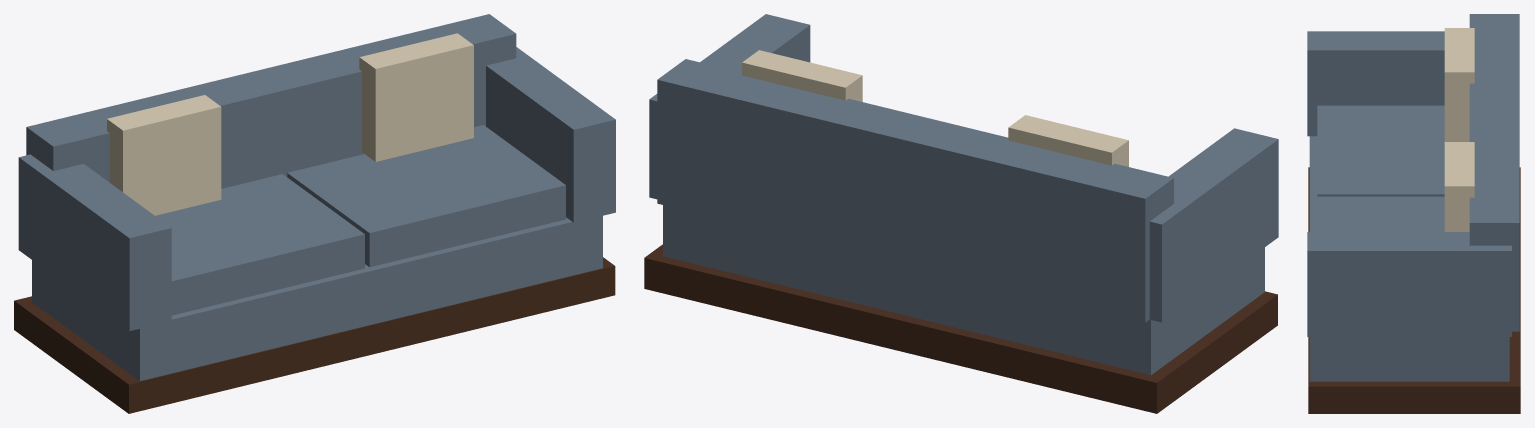
File: loveseat.glb
3 renders of one model, left to right at view 1: azimuth 30°, elevation 25°; view 2: azimuth 150°, elevation 25°; view 3: azimuth 270°, elevation 25°, orthographic. The views are drawn at different scales.
Parts seen in each view (by area): view 1: loveseat; view 2: loveseat; view 3: loveseat.
Boxes of the visible parts, x1,y1,x2,y2 form: loveseat: [14, 14, 615, 413]; loveseat: [644, 14, 1278, 413]; loveseat: [1307, 14, 1520, 413].
Size of the model in its own units: 2.08 by 0.87 by 0.855.
